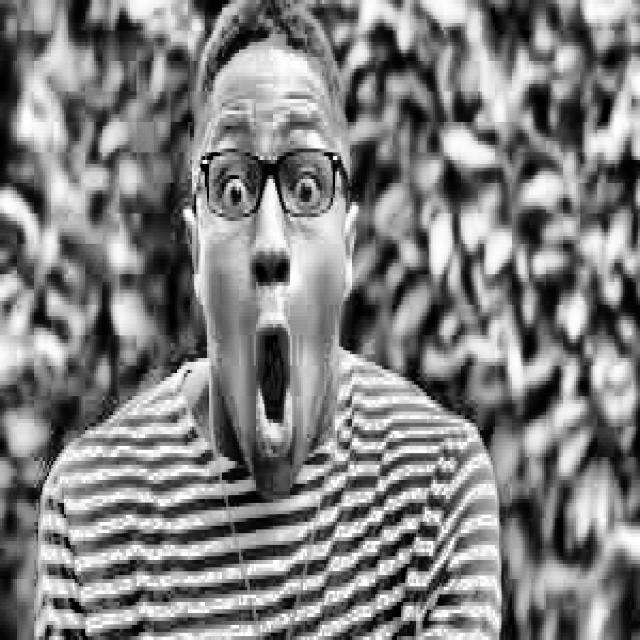surprise: (176, 12, 362, 497)
